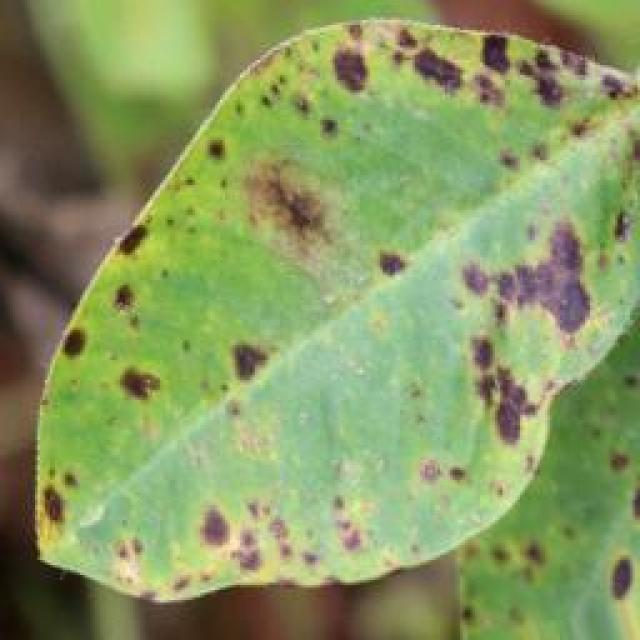Yellowish: (44, 18, 640, 627)
